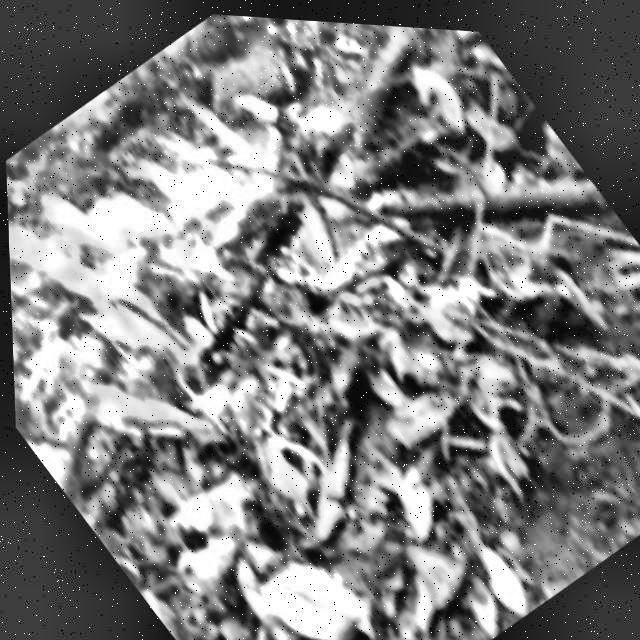Fire: (0, 0, 459, 516)
